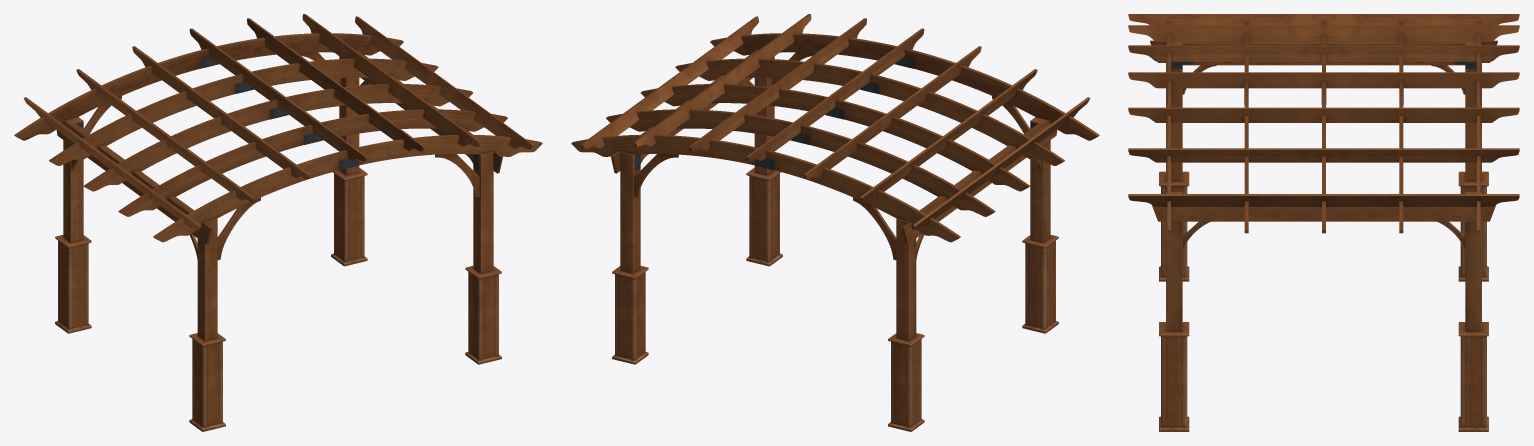
File: GardenPergola01_2.FBX
The picture shows the model from 3 angles, left to right: view 1: azimuth 30°, elevation 25°; view 2: azimuth 150°, elevation 25°; view 3: azimuth 270°, elevation 25°; orthographic projection. The views are drawn at different scales.
Parts seen in each view (by area): view 1: GardenPergola01_2; view 2: GardenPergola01_2; view 3: GardenPergola01_2.
Boxes of the visible parts, <box> form: GardenPergola01_2: <box>14,14,542,431</box>; GardenPergola01_2: <box>571,14,1099,431</box>; GardenPergola01_2: <box>1128,14,1519,431</box>.
Size of what is drawn, in the model's own units: 5.17 by 3.17 by 4.05.
